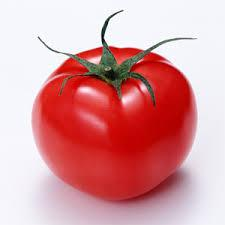tomato: (30, 47, 198, 201)
